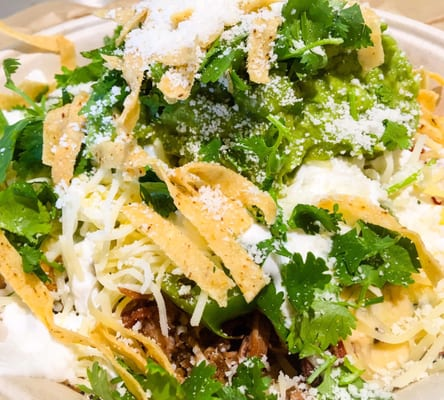curry: (138, 1, 428, 195)
